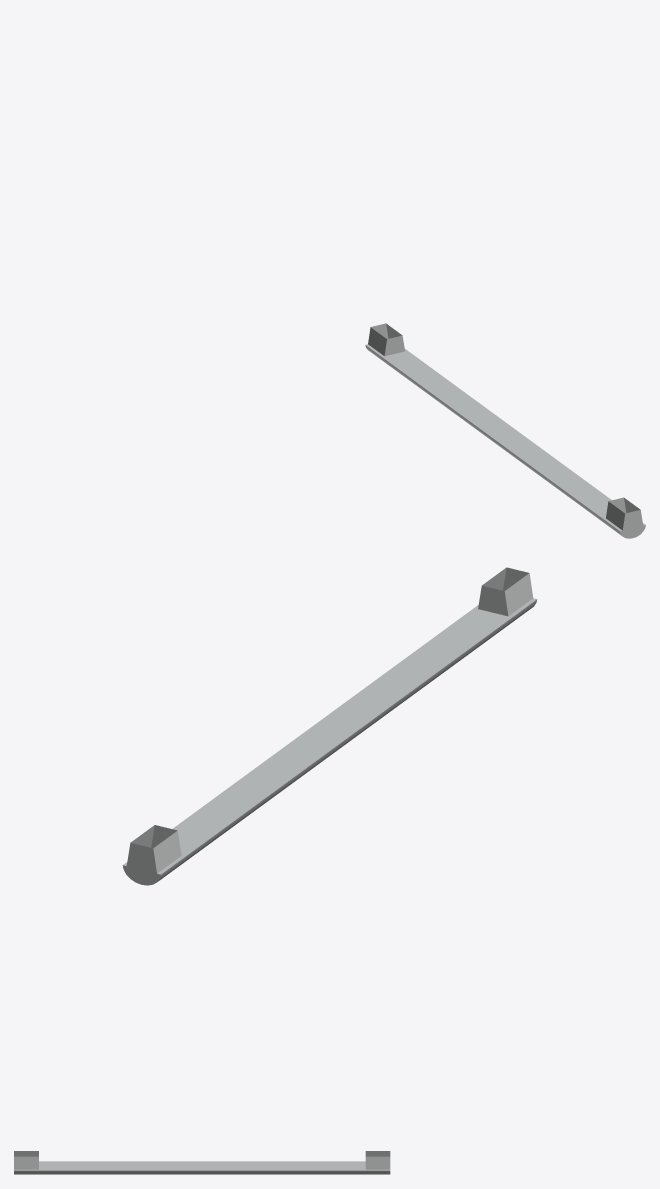
File: MeshFridgeMaindoorB5_4_GeomSubset_1.obj
The picture shows the model from 3 angles, top to bottom: view 1: azimuth 30°, elevation 25°; view 2: azimuth 150°, elevation 25°; view 3: azimuth 270°, elevation 25°; orthographic projection. The views are drawn at different scales.
Parts seen in each view (by area): view 1: MeshFridgeMaindoorB5_4_GeomSubset_1; view 2: MeshFridgeMaindoorB5_4_GeomSubset_1; view 3: MeshFridgeMaindoorB5_4_GeomSubset_1.
Part boxes in pixels (<box>): MeshFridgeMaindoorB5_4_GeomSubset_1: <box>365,323,645,538</box>; MeshFridgeMaindoorB5_4_GeomSubset_1: <box>122,567,537,885</box>; MeshFridgeMaindoorB5_4_GeomSubset_1: <box>14,1151,390,1174</box>.
Bounding box in the file's own units: 0.3612 × 0.4354 × 1.31.
